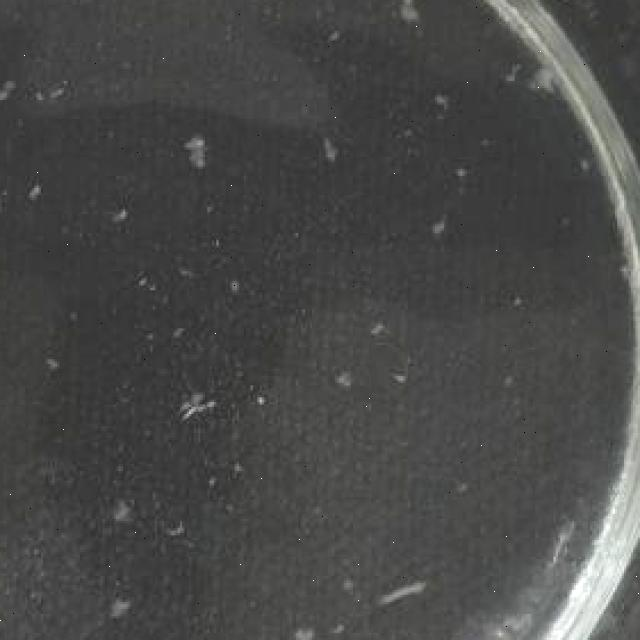Microplastic: (180, 126, 221, 207), (374, 571, 428, 626), (173, 383, 210, 431), (105, 488, 141, 535), (396, 0, 433, 43), (109, 585, 132, 640), (275, 618, 328, 640)
